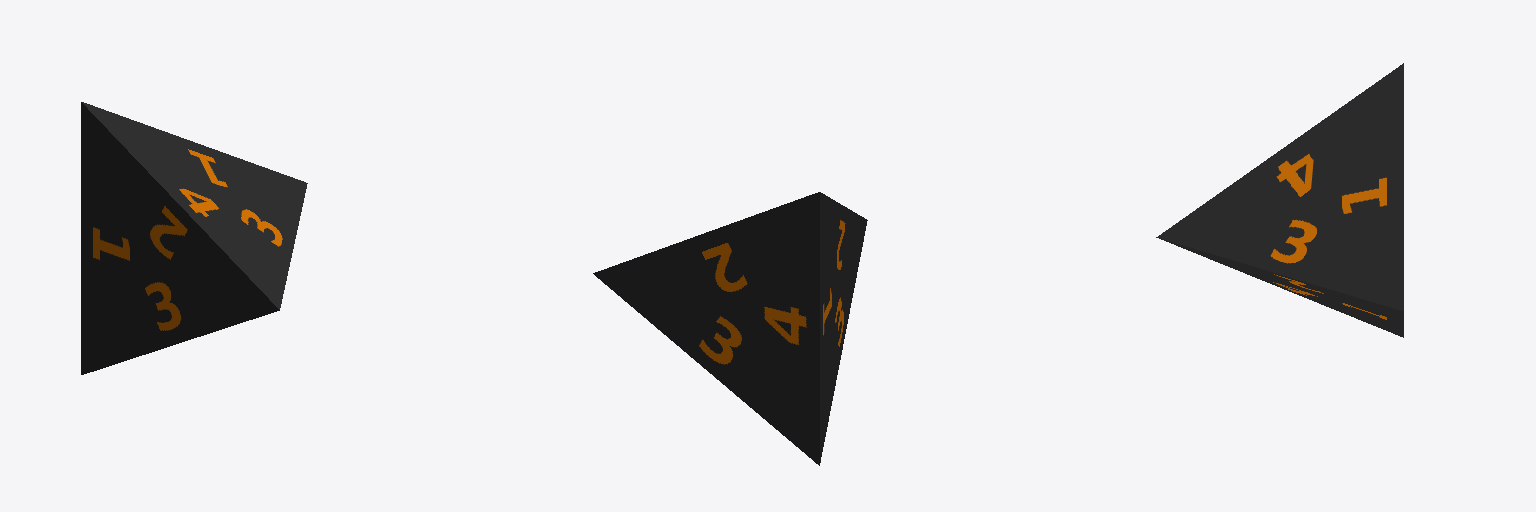
3 views of the same model, side by side, from view 1: azimuth 30°, elevation 25°; view 2: azimuth 150°, elevation 25°; view 3: azimuth 270°, elevation 25° (orthographic).
Parts seen in each view (by area): view 1: Hedra01; view 2: Hedra01; view 3: Hedra01.
Part boxes in pixels (x1,y1,x2,y2): Hedra01: (81,102,307,374); Hedra01: (593,192,867,465); Hedra01: (1156,63,1403,337).
Size of the model in its own units: 0.6953 by 0.8028 by 0.6555.
1 materials, 1 textured.